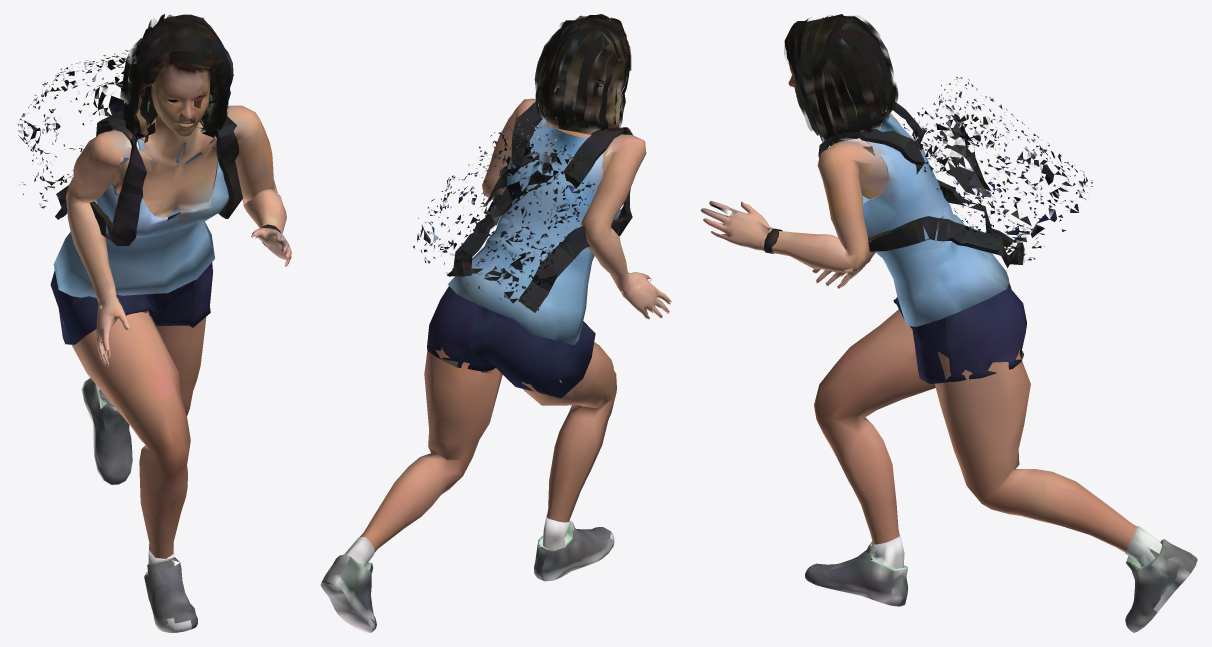
3 views of the same model, side by side, from view 1: azimuth 30°, elevation 25°; view 2: azimuth 150°, elevation 25°; view 3: azimuth 270°, elevation 25° (orthographic). The views are drawn at different scales.
Visible parts, largest first — view 1: p04401; view 2: p04401; view 3: p04401.
Part boxes in pixels (x1,y1,x2,y2): p04401: (18, 14, 291, 632); p04401: (320, 14, 671, 632); p04401: (700, 14, 1197, 632).
Bounding box in the file's own units: 0.5265 × 1.53 × 1.19.
Materials: 1 (1 with a texture image).
